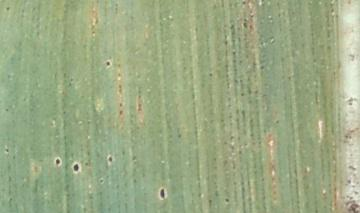tarspot: (156, 185, 170, 201), (70, 161, 82, 176), (135, 97, 143, 117), (118, 101, 126, 119), (105, 152, 115, 166), (116, 83, 125, 98), (53, 156, 62, 168), (2, 144, 10, 156), (104, 57, 111, 70), (96, 177, 106, 185), (115, 71, 123, 81), (223, 196, 231, 204), (207, 70, 214, 79), (5, 5, 11, 11)
